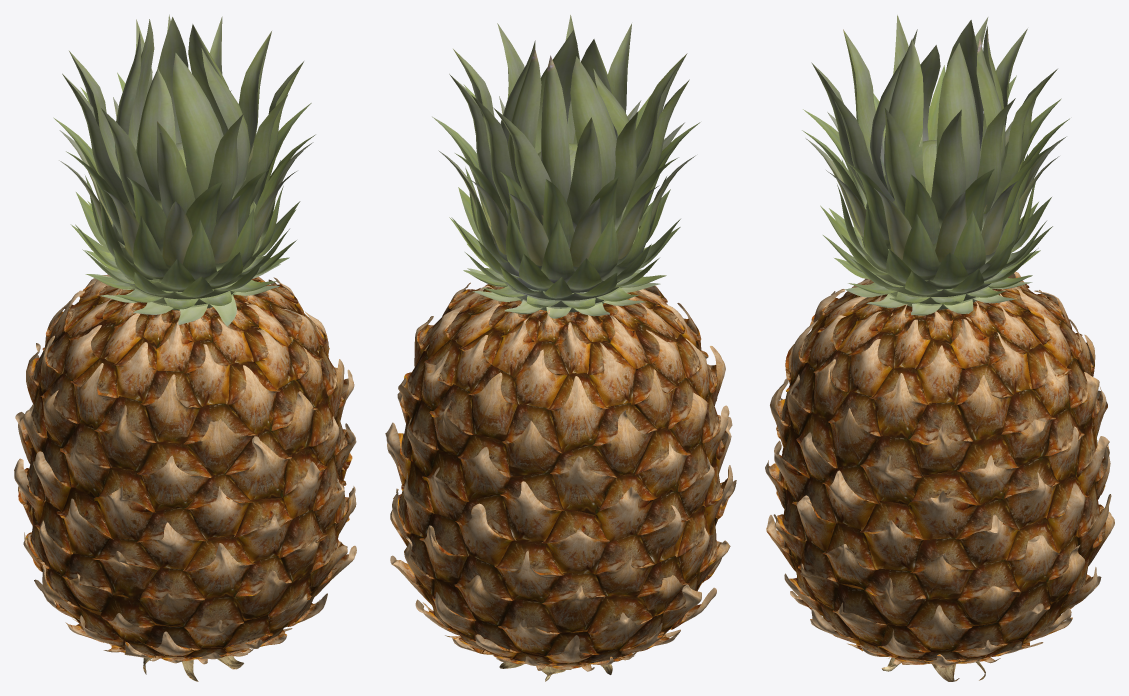
The model's file is pinapple.obj.
The picture shows the model from 3 angles, left to right: view 1: azimuth 30°, elevation 25°; view 2: azimuth 150°, elevation 25°; view 3: azimuth 270°, elevation 25°; orthographic projection.
Parts seen in each view (by area): view 1: middle, top; view 2: middle, top; view 3: middle, top.
Part boxes in pixels (x1,y1,x2,y2): middle: (14, 274, 356, 664); top: (53, 14, 315, 326); middle: (385, 282, 736, 671); top: (432, 15, 700, 318); middle: (765, 271, 1114, 667); top: (802, 15, 1069, 315).
Size of the model in its own units: 0.1448 by 0.287 by 0.1436.
3 materials, 3 textured.
